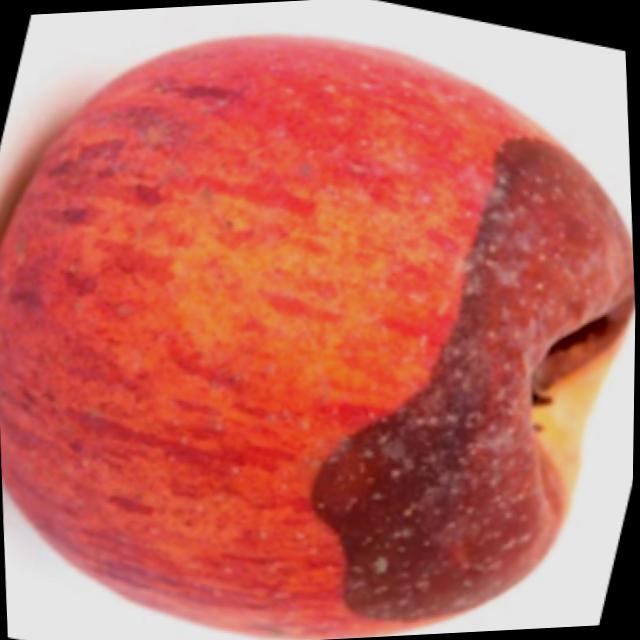organik: (0, 11, 640, 640)
